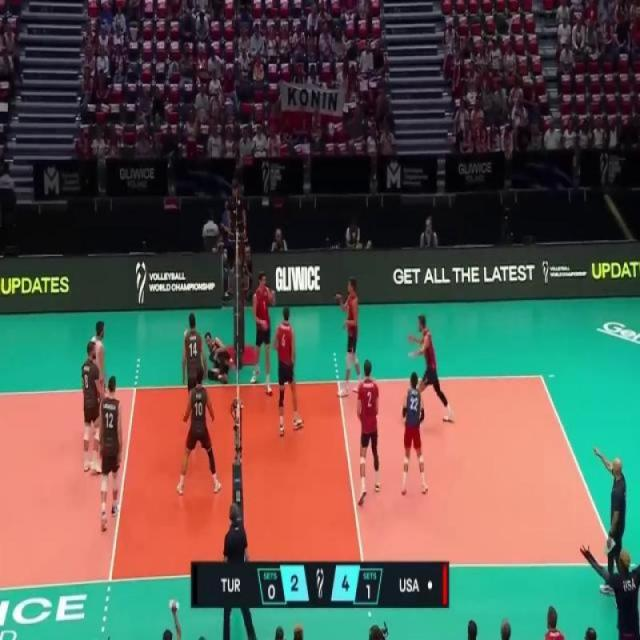volleyball: (182, 328, 188, 339)
